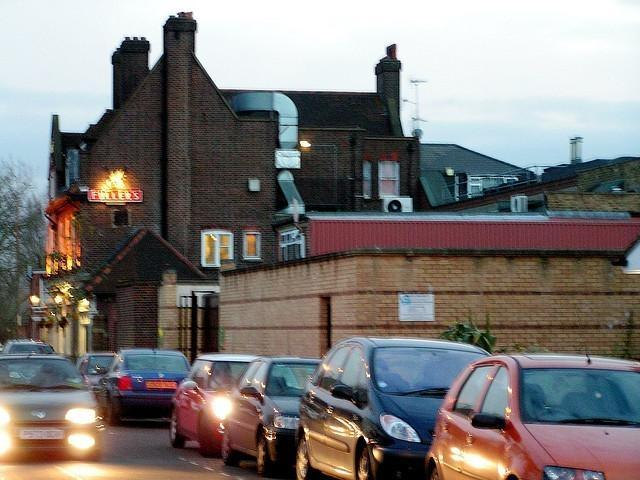car: (414, 354, 640, 480), (296, 336, 492, 474), (218, 356, 322, 477), (0, 354, 97, 463), (95, 349, 193, 423), (172, 354, 245, 447), (77, 352, 116, 392), (2, 342, 57, 356)
